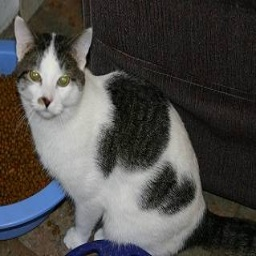cat: (9, 15, 202, 253)
